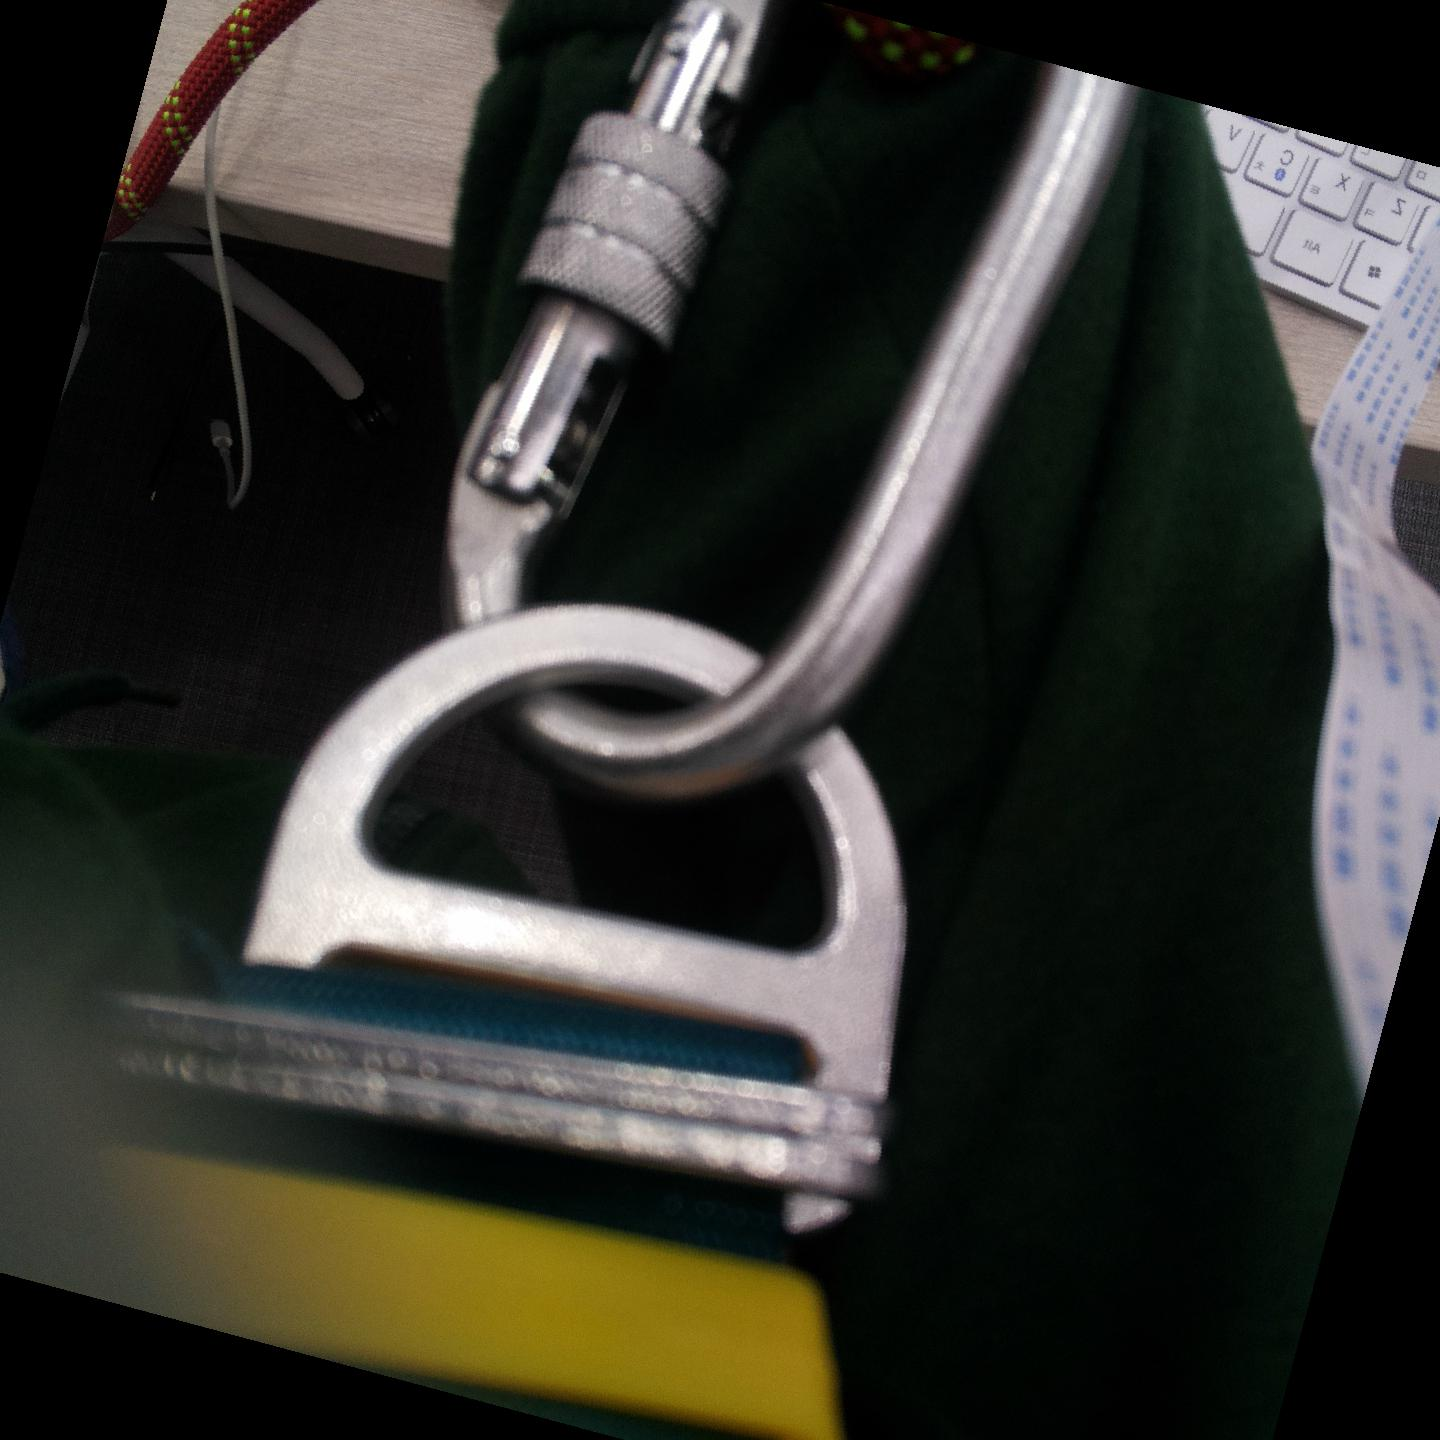SUCCESS: (491, 75, 1067, 593)
